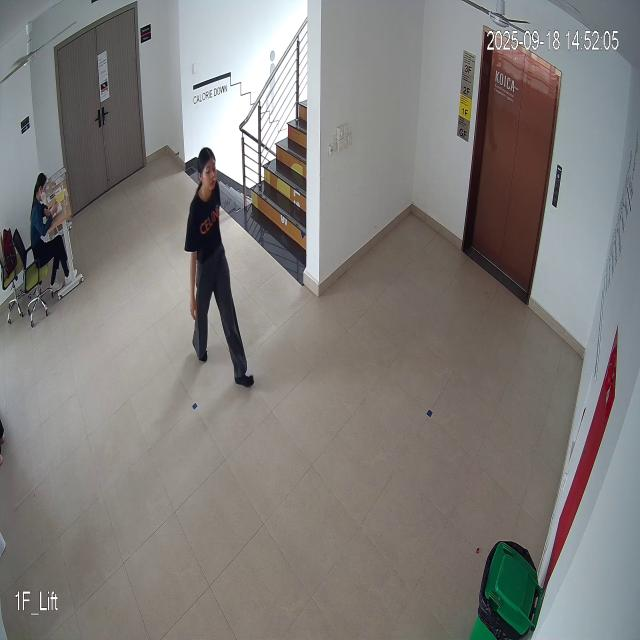face: (196, 144, 218, 193)
